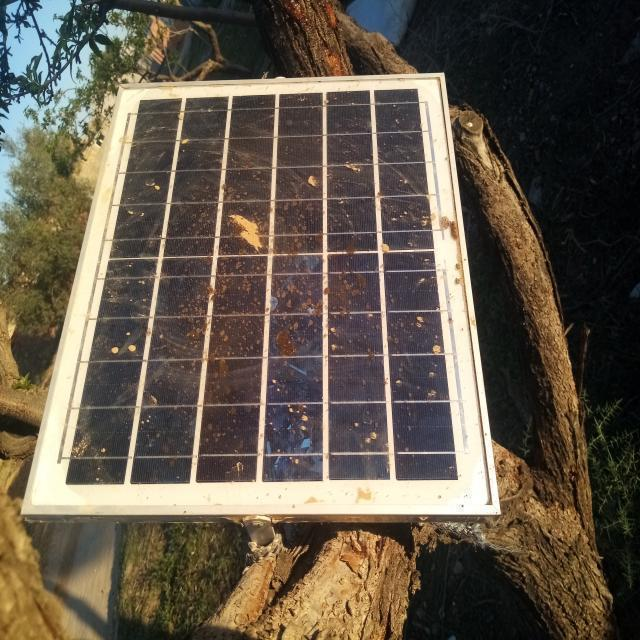Anomaly Solar Panel: (15, 70, 501, 514)
Surface Contaminant: (68, 91, 454, 479)
